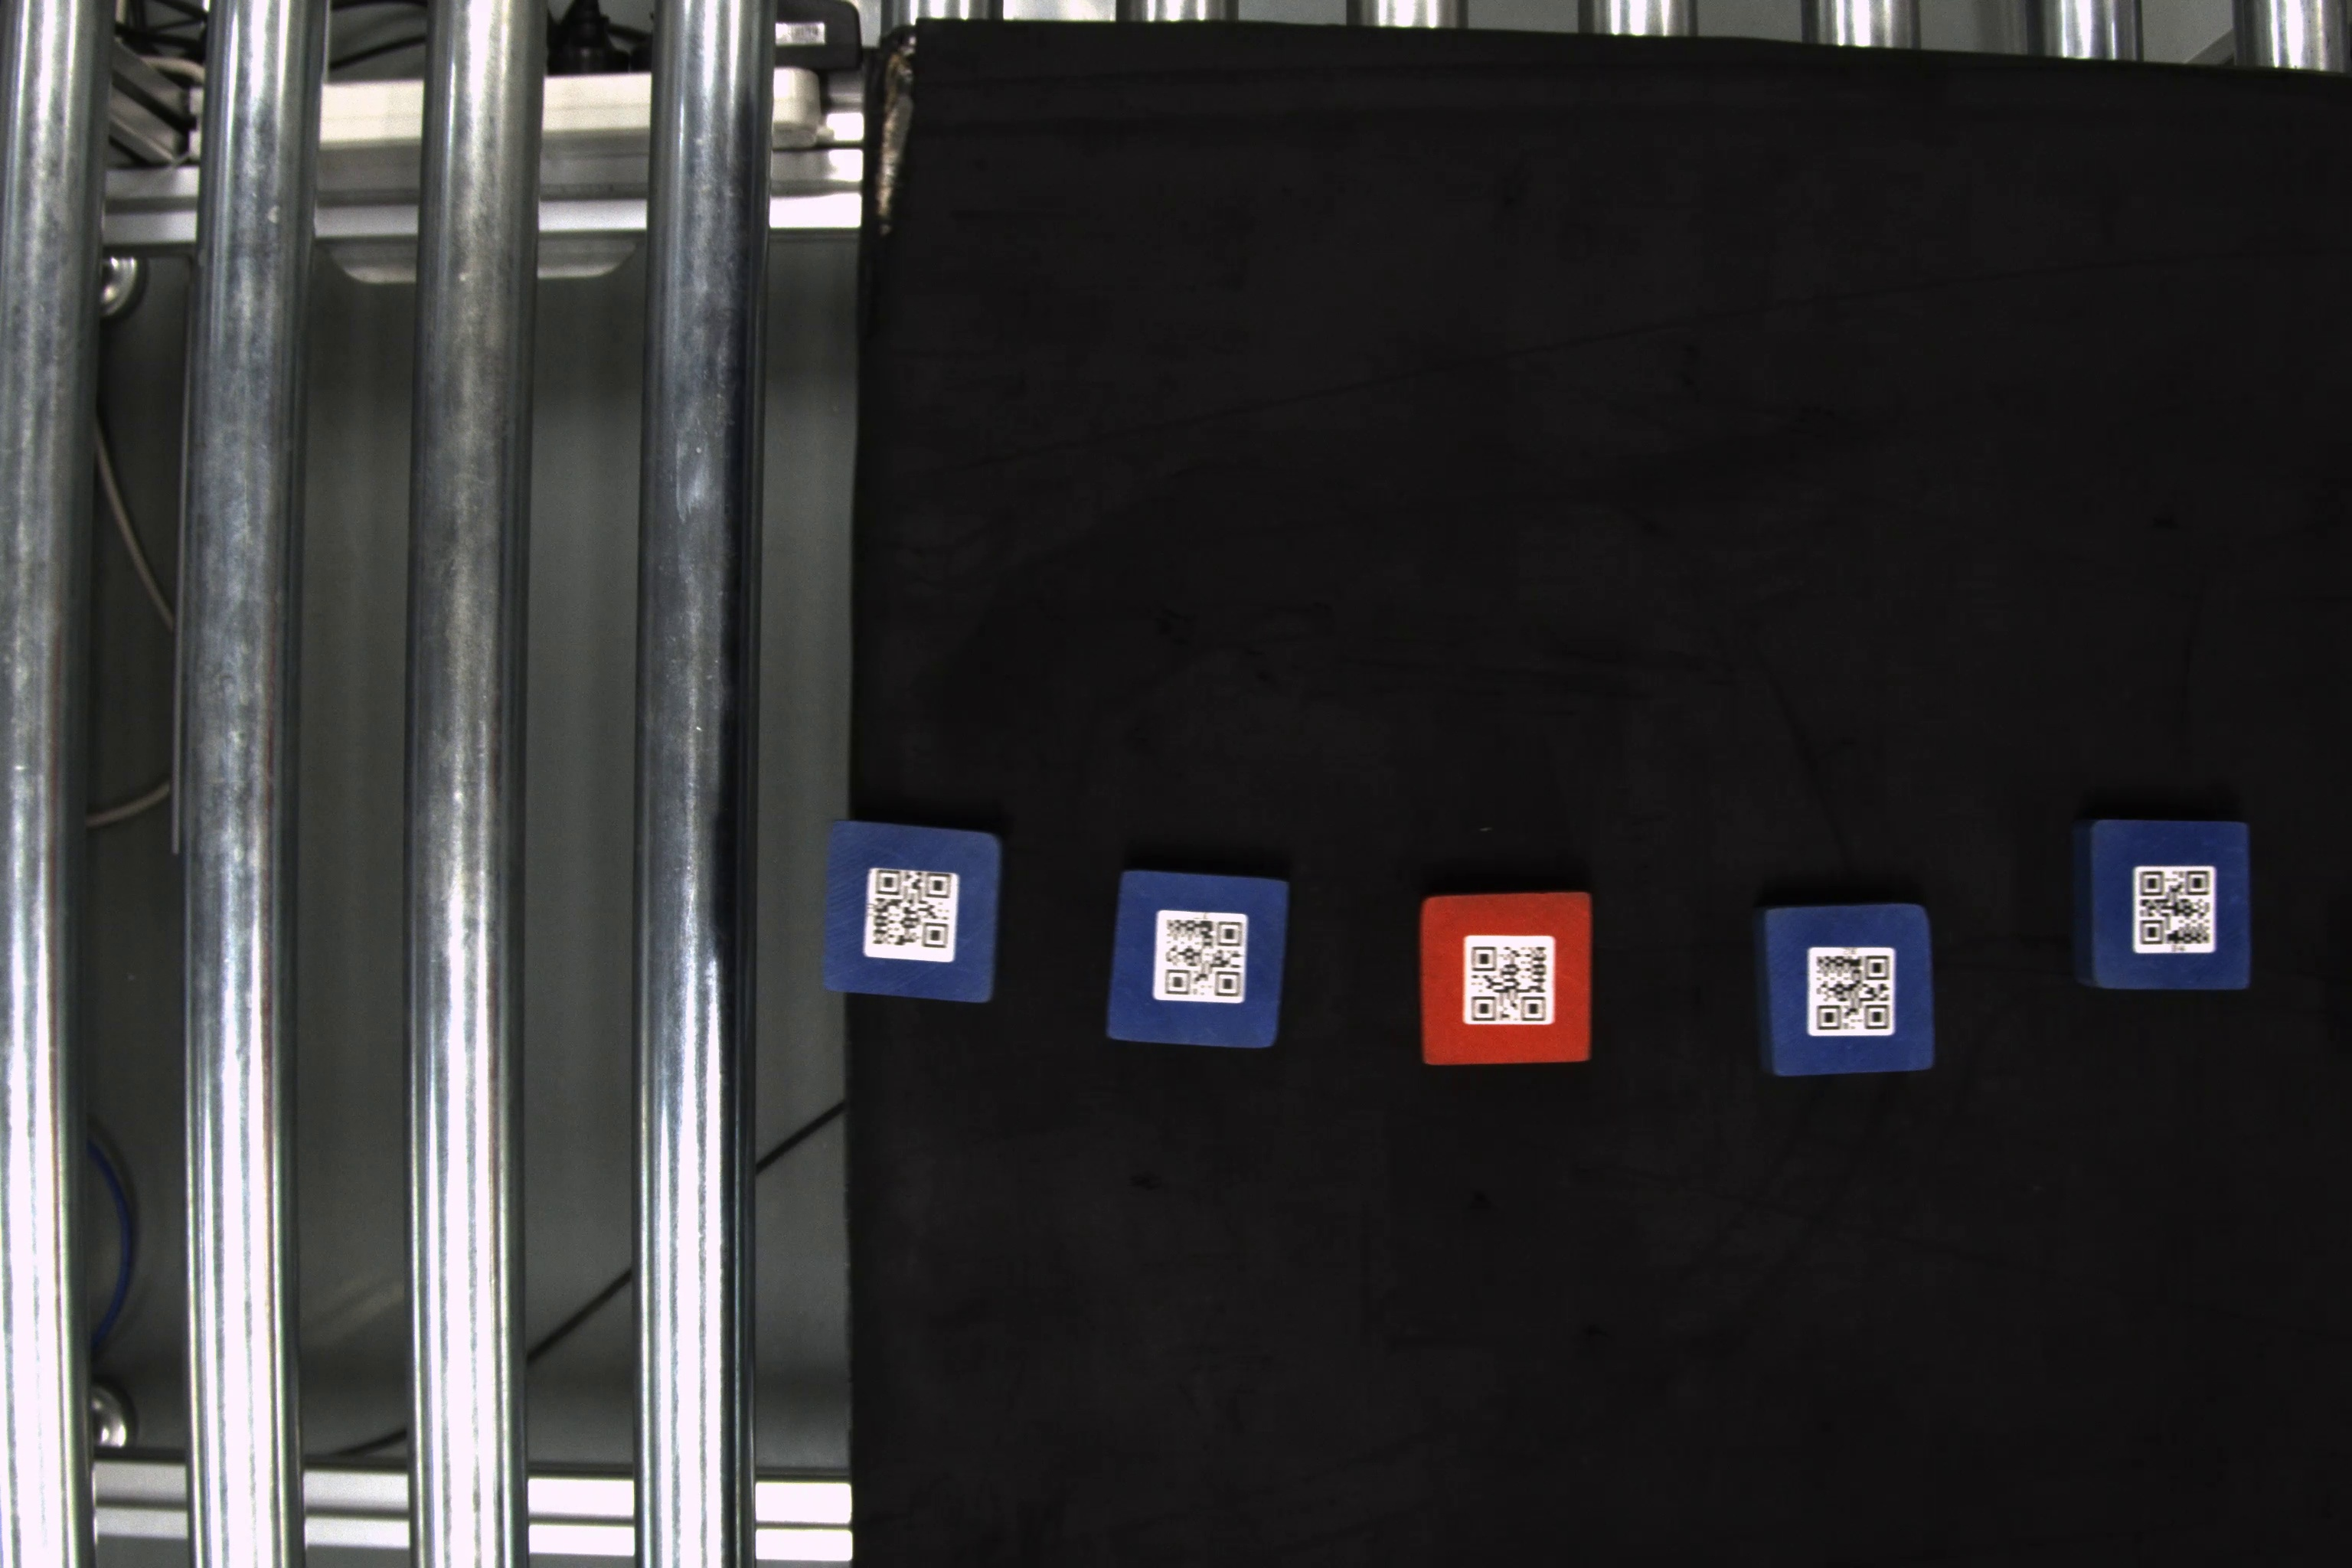wood: (821, 817, 1006, 1008), (1102, 868, 1293, 1053), (2068, 817, 2259, 1001), (1416, 887, 1601, 1069), (1752, 906, 1937, 1085)
